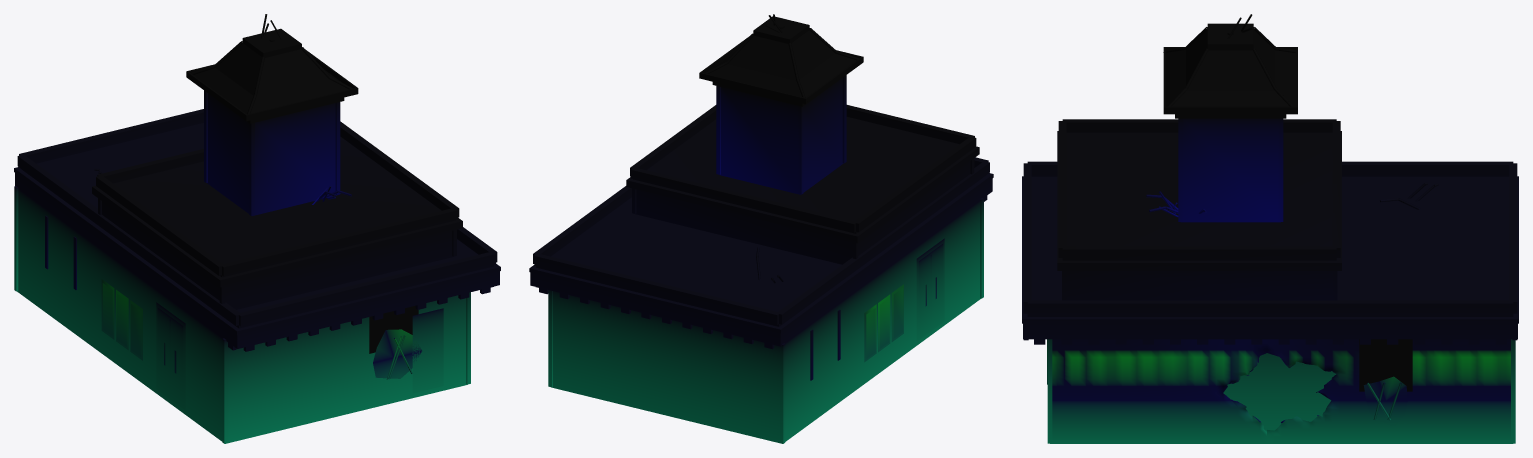
File: l_residenceleft_damaged.glb
The picture shows the model from 3 angles, left to right: view 1: azimuth 30°, elevation 25°; view 2: azimuth 150°, elevation 25°; view 3: azimuth 270°, elevation 25°; orthographic projection. The views are drawn at different scales.
Visible parts, largest first — view 1: lod0; view 2: lod0; view 3: lod0.
Part boxes in pixels (x1,y1,x2,y2): lod0: [14, 14, 500, 443]; lod0: [529, 14, 993, 443]; lod0: [1022, 14, 1518, 443].
Size of what is drawn, in the model's own units: 21.4 by 25.6 by 31.2.
